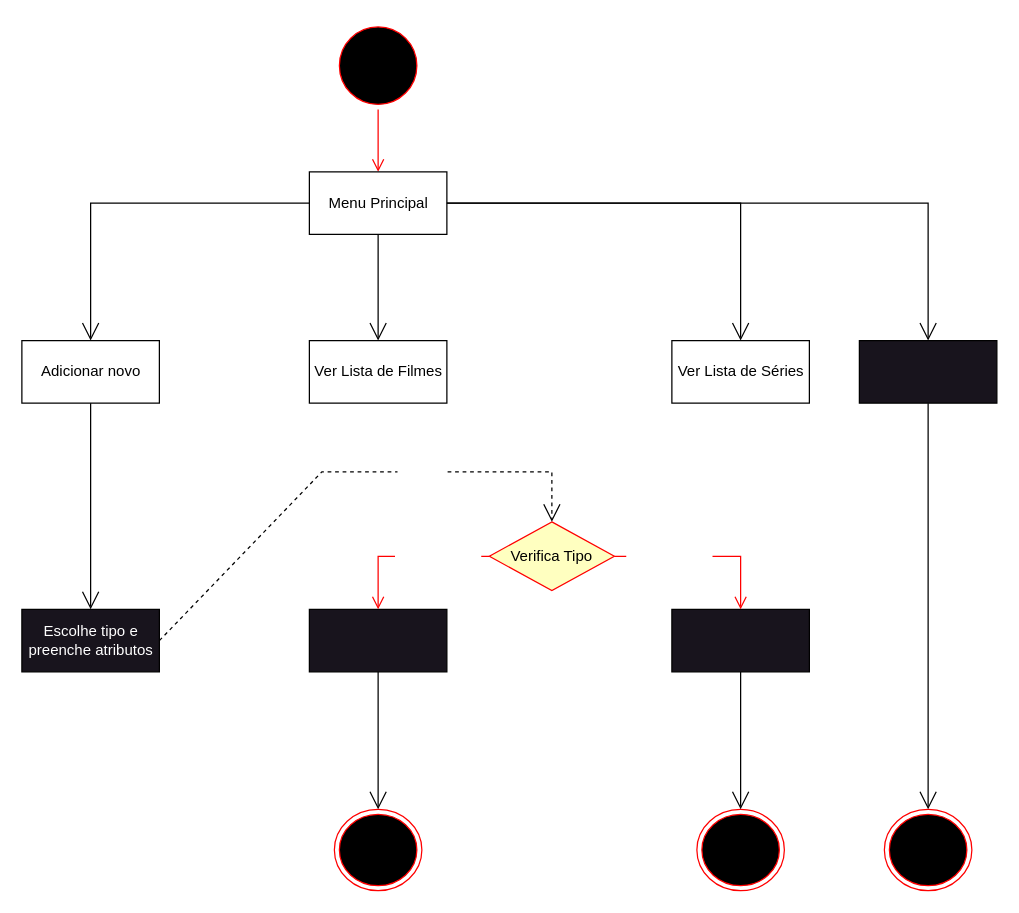
This 1019x913 diagram has some shape labels left out. The shapes that lost their labels are listed below. From the top down, each one's centre as x and y in pixels, then its label:
the point at 927,371: Sair
the point at 377,640: Lista de Filmes
the point at 740,640: Lista de Séries
